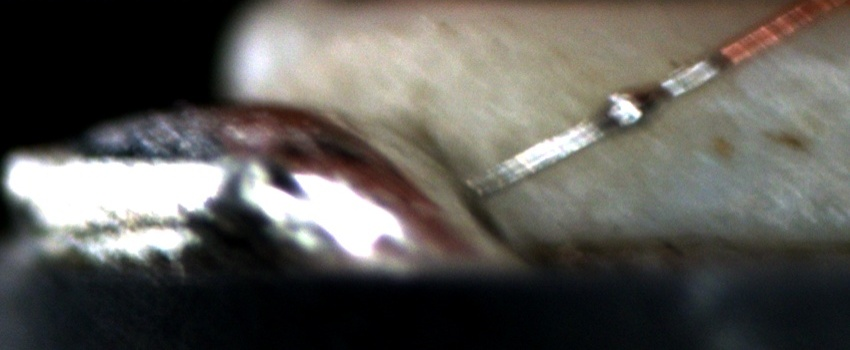TB: (595, 80, 660, 133)
TS: (471, 58, 722, 198)
TTCW: (469, 4, 790, 203)
